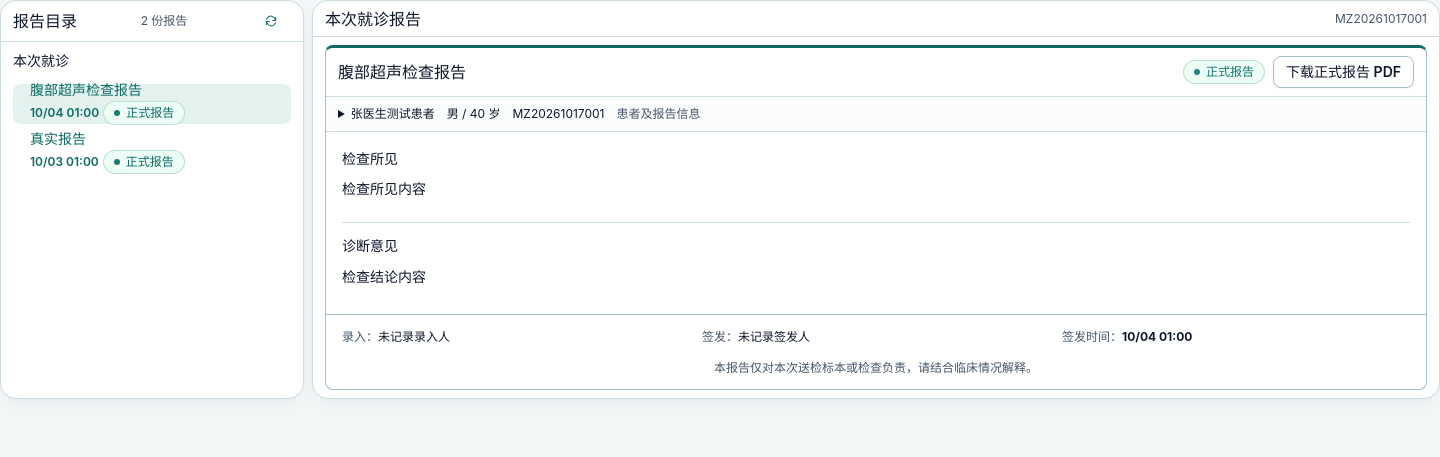
Test case: outpatient diagnostic results truth › lists multiple reports while rendering only the selected laboratory or examination detail
Expected: the element "腹部超声检查报告" is shown, x1=325 y1=45 x2=1427 y2=390
Expected: the text "2 份报告" is shown, x1=141 y1=12 x2=187 y2=30
Click the button with aria-label "查看真实报告，第1版，正式报告" at (152, 153), box x1=13 y1=133 x2=291 y2=173
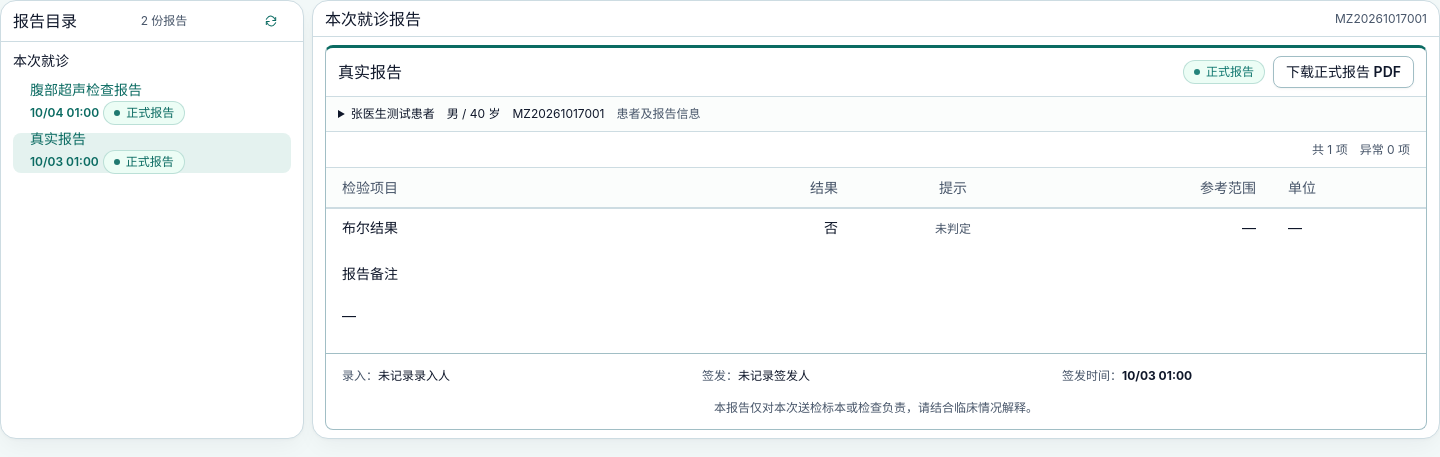
Now the element "真实报告" is shown
Now the text "检查所见内容" is gone
